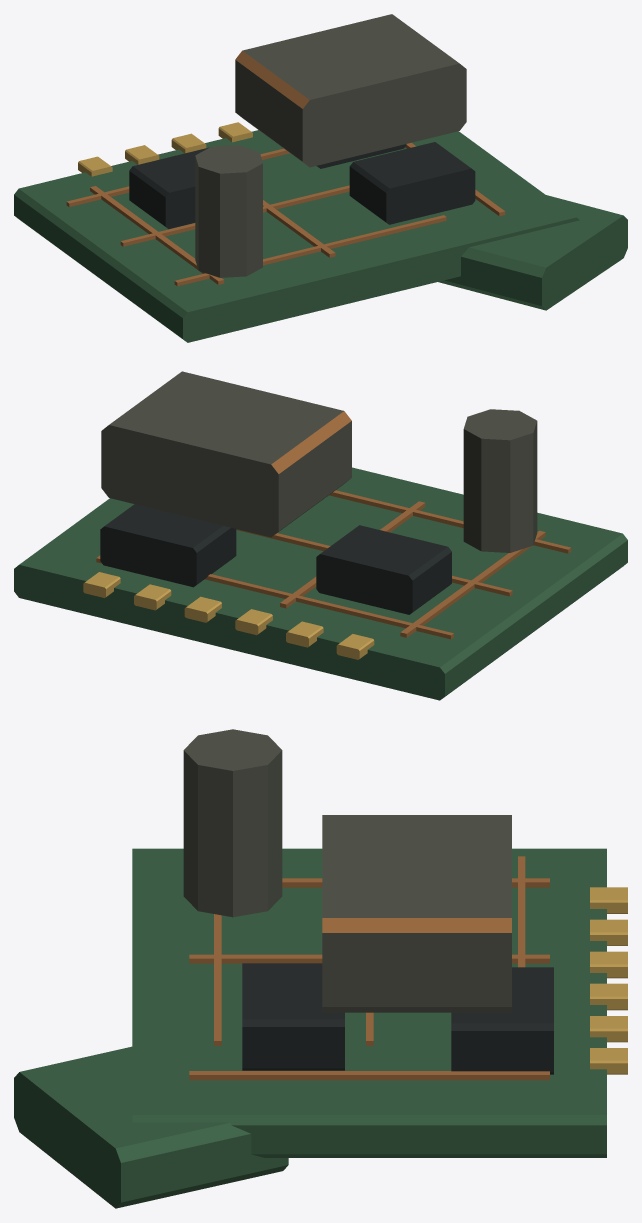
The model's file is EWaste.gltf.
3 renders of one model, top to bottom at view 1: azimuth 30°, elevation 25°; view 2: azimuth 150°, elevation 25°; view 3: azimuth 270°, elevation 25°, orthographic. The views are drawn at different scales.
Parts seen in each view (by area): view 1: EWaste; view 2: EWaste; view 3: EWaste.
Part boxes in pixels (box(x1,y1,x2,y2)): EWaste: box(14, 14, 627, 342); EWaste: box(14, 371, 627, 700); EWaste: box(14, 729, 627, 1208).
Bounding box in the file's own units: 0.3765 × 0.133 × 0.3233.
